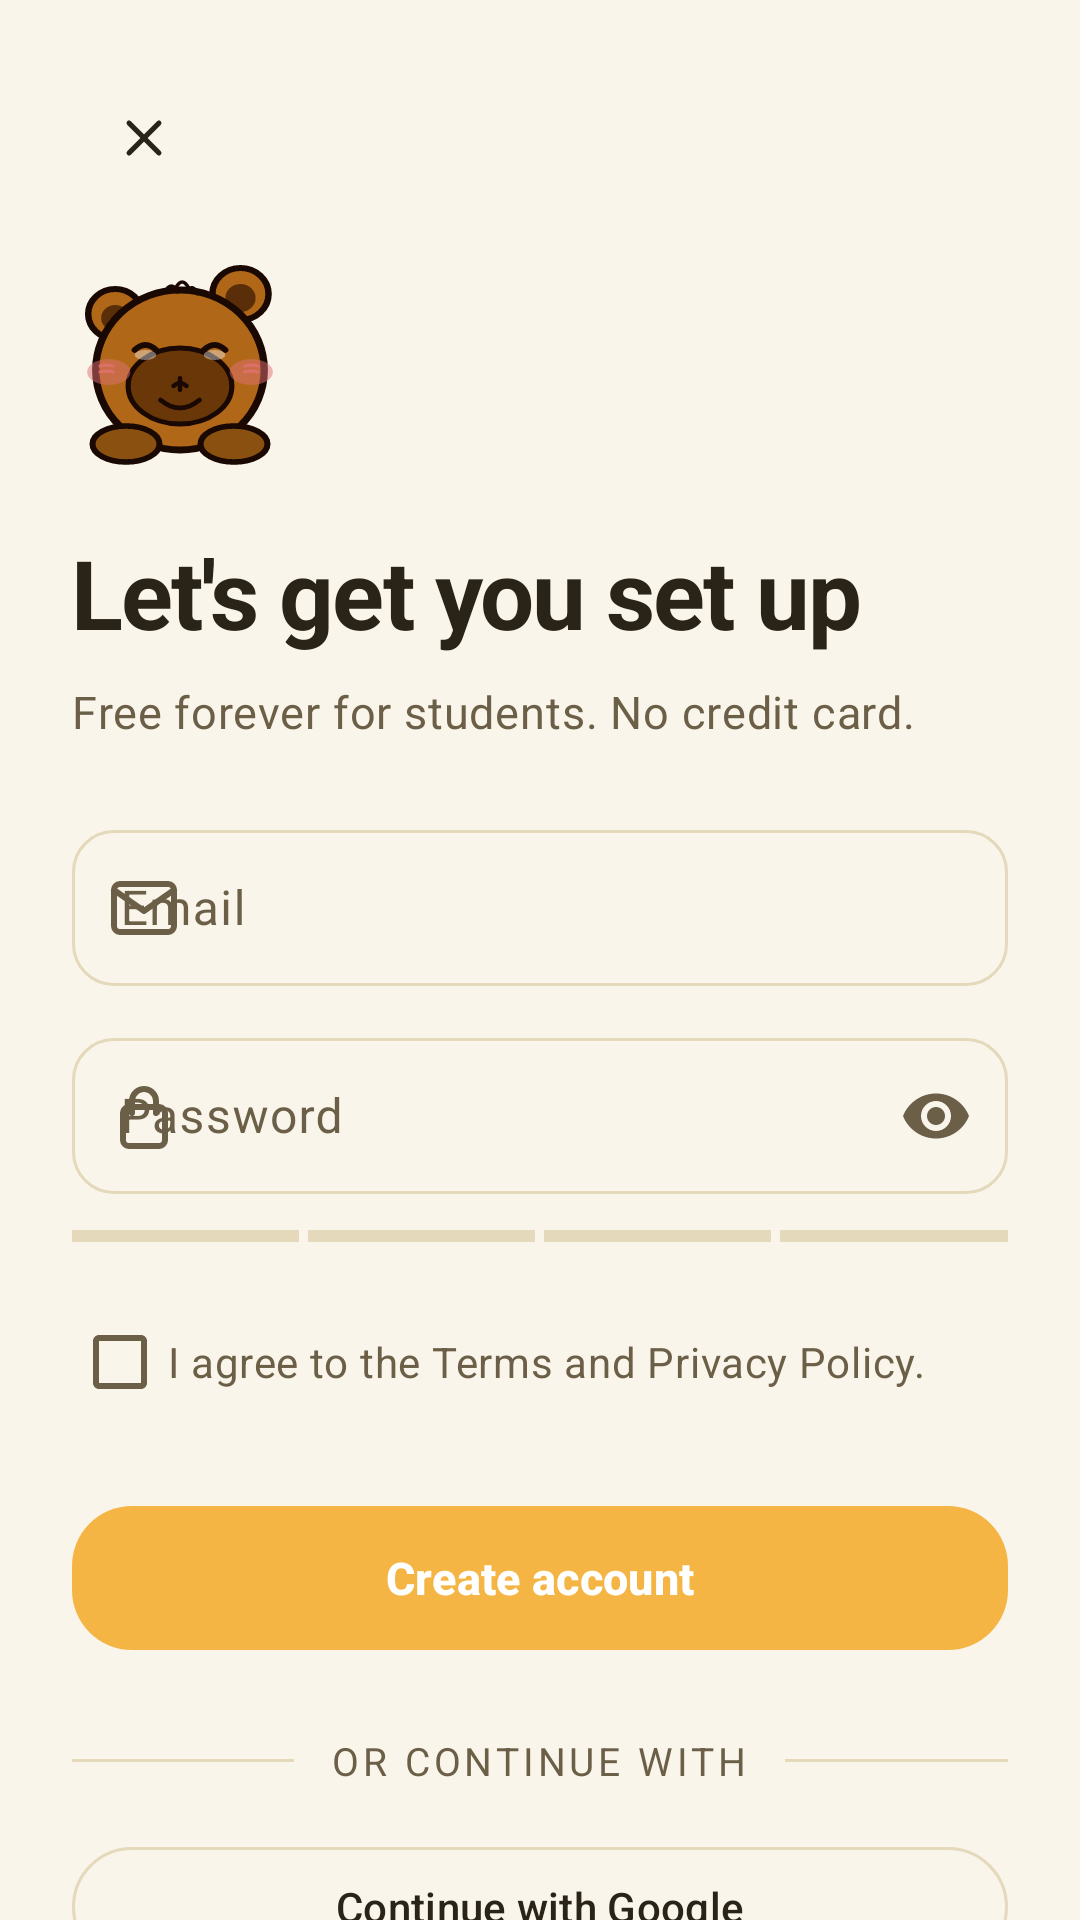

Icons on this 1080x1920 Android screen, each with its box as [left=x1, top=y1, right=x2, bottom=y2]:
Close: [left=126, top=120, right=162, bottom=156]
